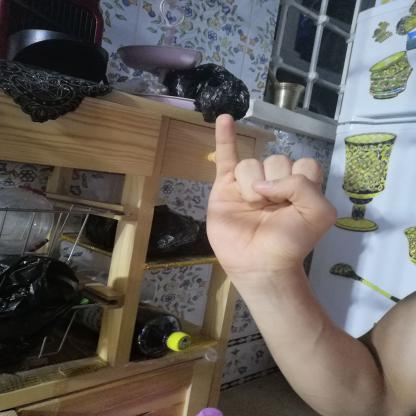MEEM: (177, 101, 354, 286)
